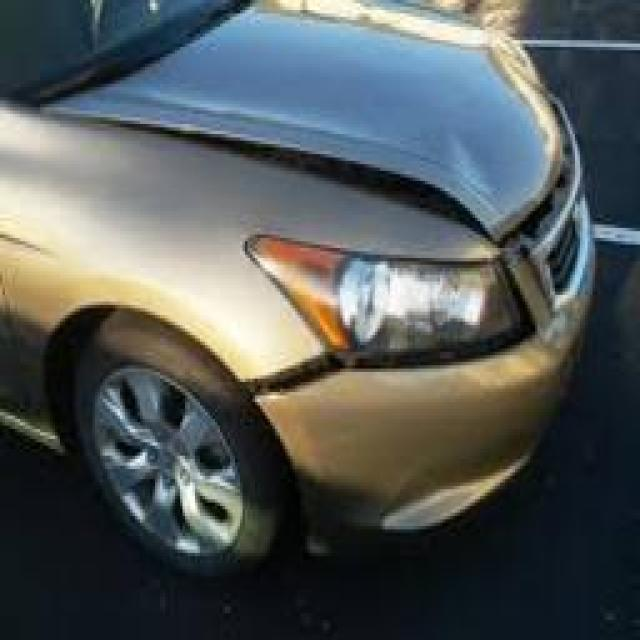rapairable: (252, 350, 532, 413), (446, 116, 535, 226)
